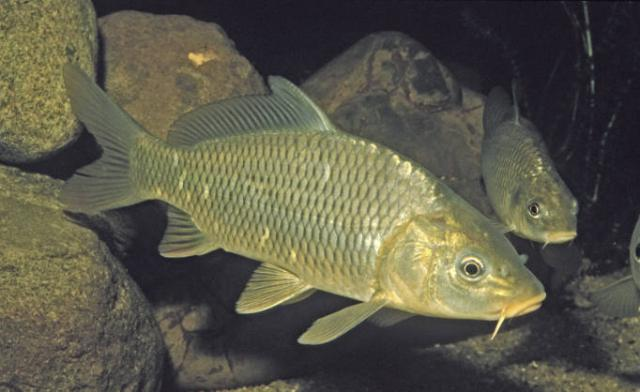Mulut: (478, 282, 556, 342), (544, 226, 594, 255)
Sirip Anal: (294, 294, 396, 364), (154, 195, 216, 275)
Sirip Ekor: (46, 53, 156, 235)
Sirip Perut: (228, 258, 318, 322)
Sirip Punggung: (168, 63, 334, 155), (479, 84, 537, 152)
